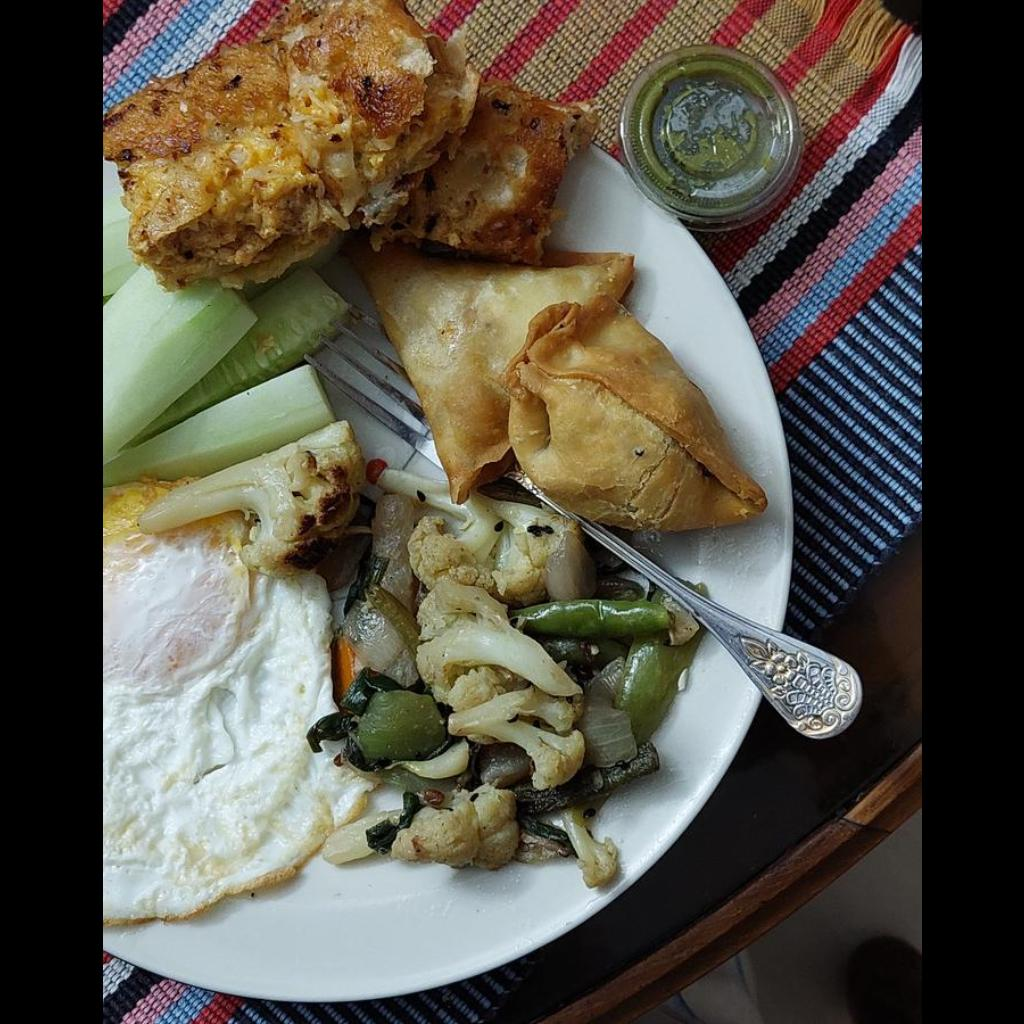cucumber: (102, 162, 345, 488)
egg: (102, 0, 600, 287)
egg-poached: (102, 484, 340, 922)
puri: (359, 257, 761, 535)
vegetable: (140, 423, 707, 892)
